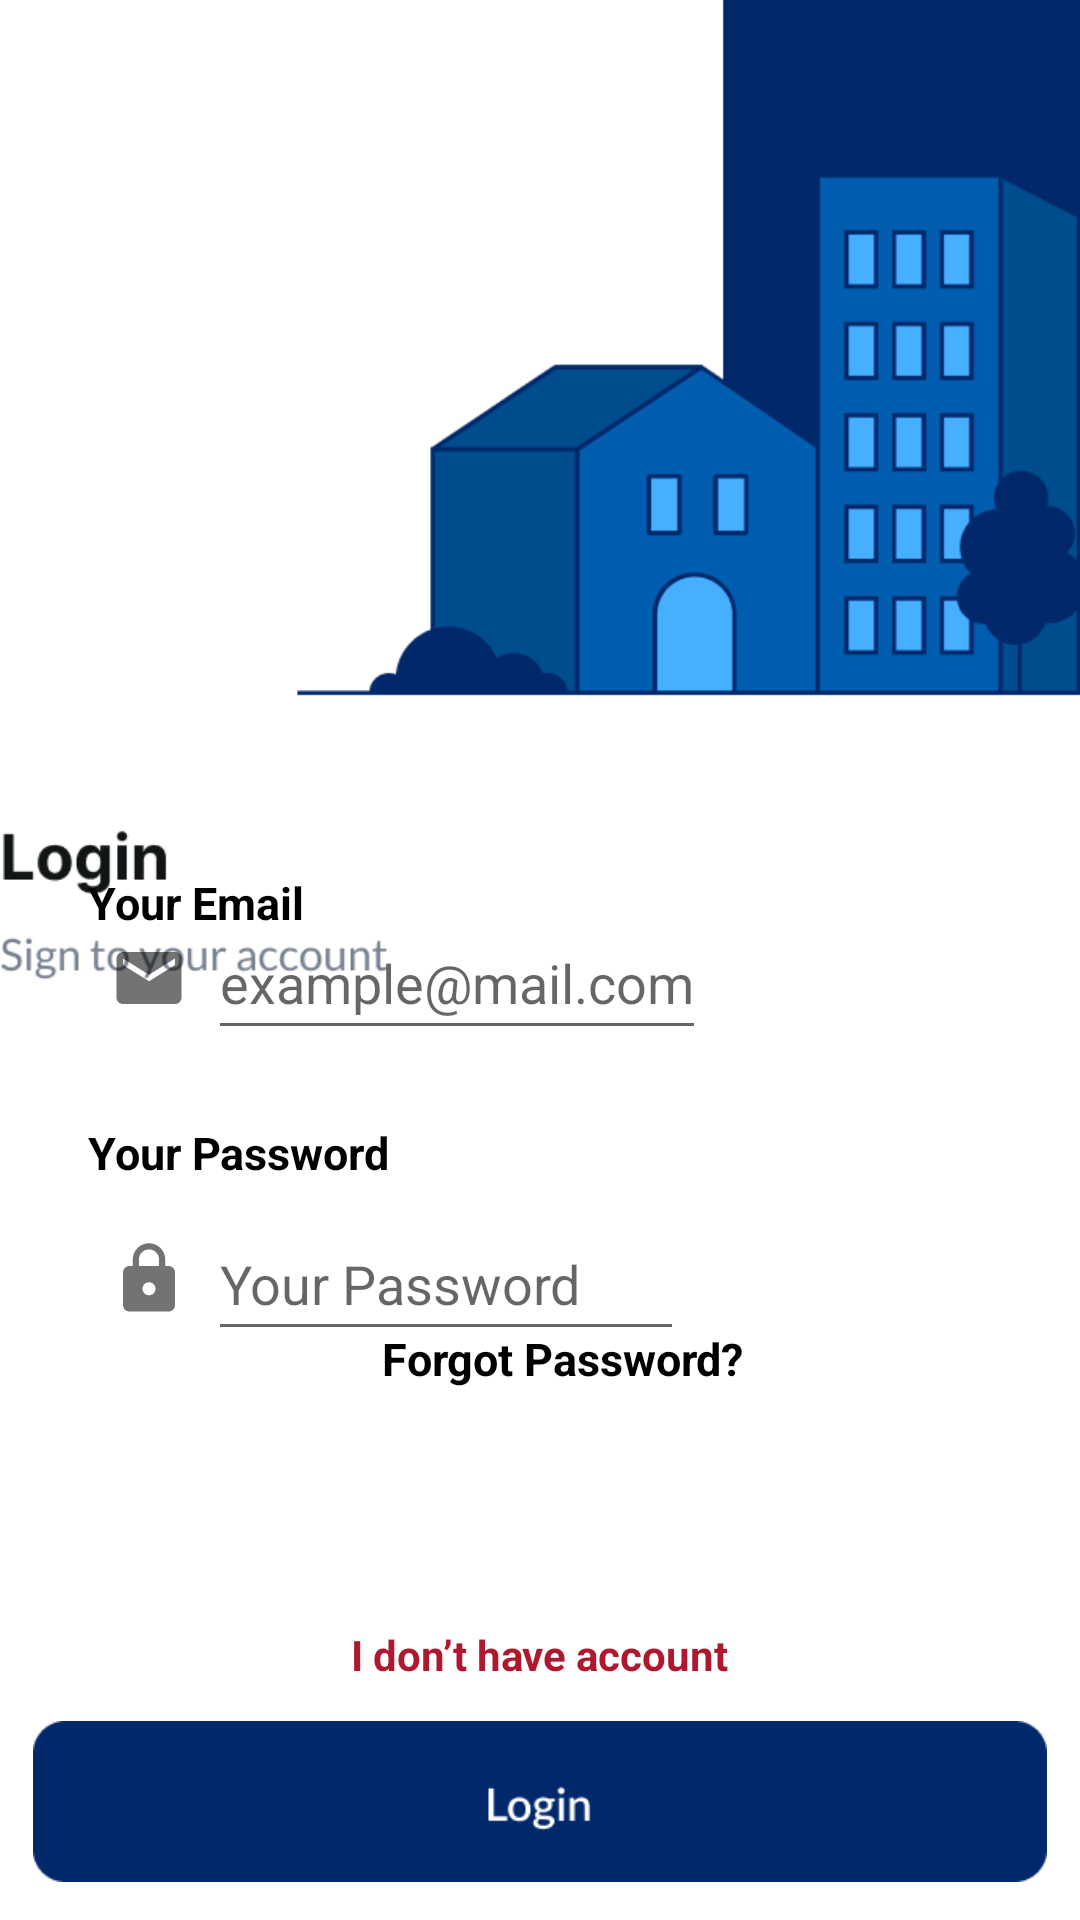

Where icons sit on this 1080×1920 app screen, as {"left": x1, "top": y1, "right": x2, "bottom": y2}:
mylock: {"left": 123, "top": 1243, "right": 175, "bottom": 1312}
mymail: {"left": 107, "top": 947, "right": 184, "bottom": 1004}
